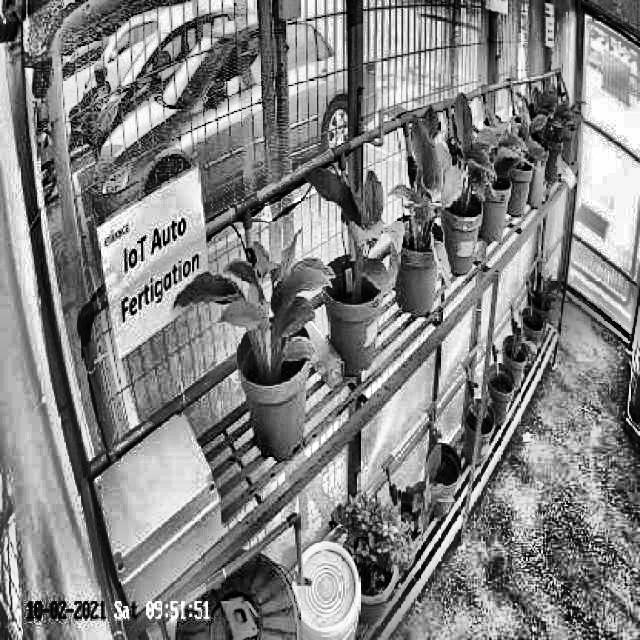plants: (171, 224, 337, 382), (388, 103, 464, 294), (304, 165, 406, 306)
